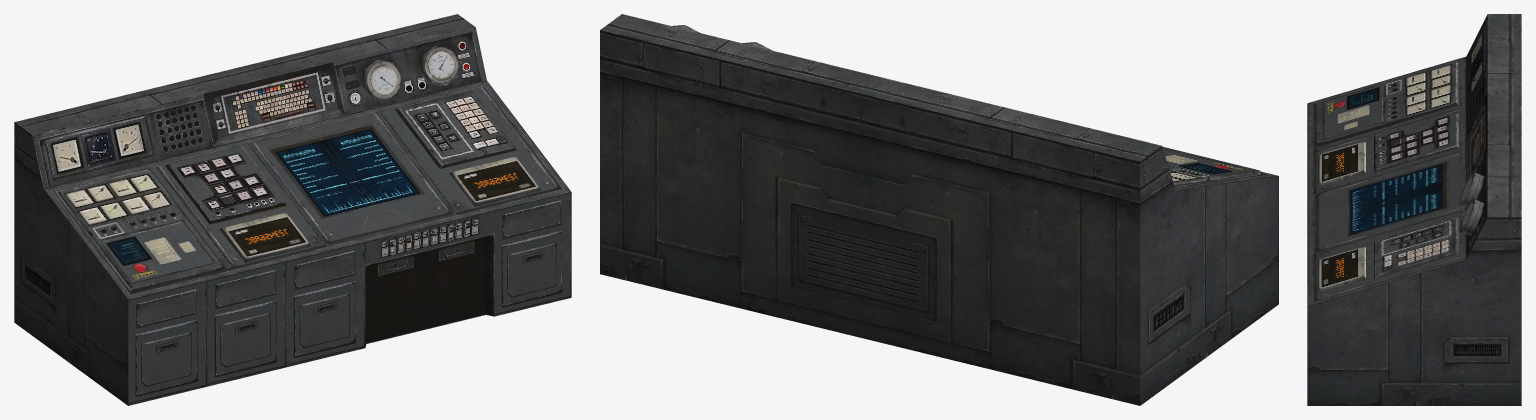
Rendered from Prop_HomeDj005.glb.
3 views of the same model, side by side, from view 1: azimuth 30°, elevation 25°; view 2: azimuth 150°, elevation 25°; view 3: azimuth 270°, elevation 25° (orthographic). The views are drawn at different scales.
Visible parts, largest first — view 1: home_dj005; view 2: home_dj005; view 3: home_dj005.
Part boxes in pixels (box(x1,y1,x2,y2)): home_dj005: box(14, 14, 571, 405); home_dj005: box(600, 14, 1278, 405); home_dj005: box(1307, 14, 1521, 405).
Bounding box in the file's own units: 4.24 × 1.83 × 1.89.
Materials: 1 (1 with a texture image).
